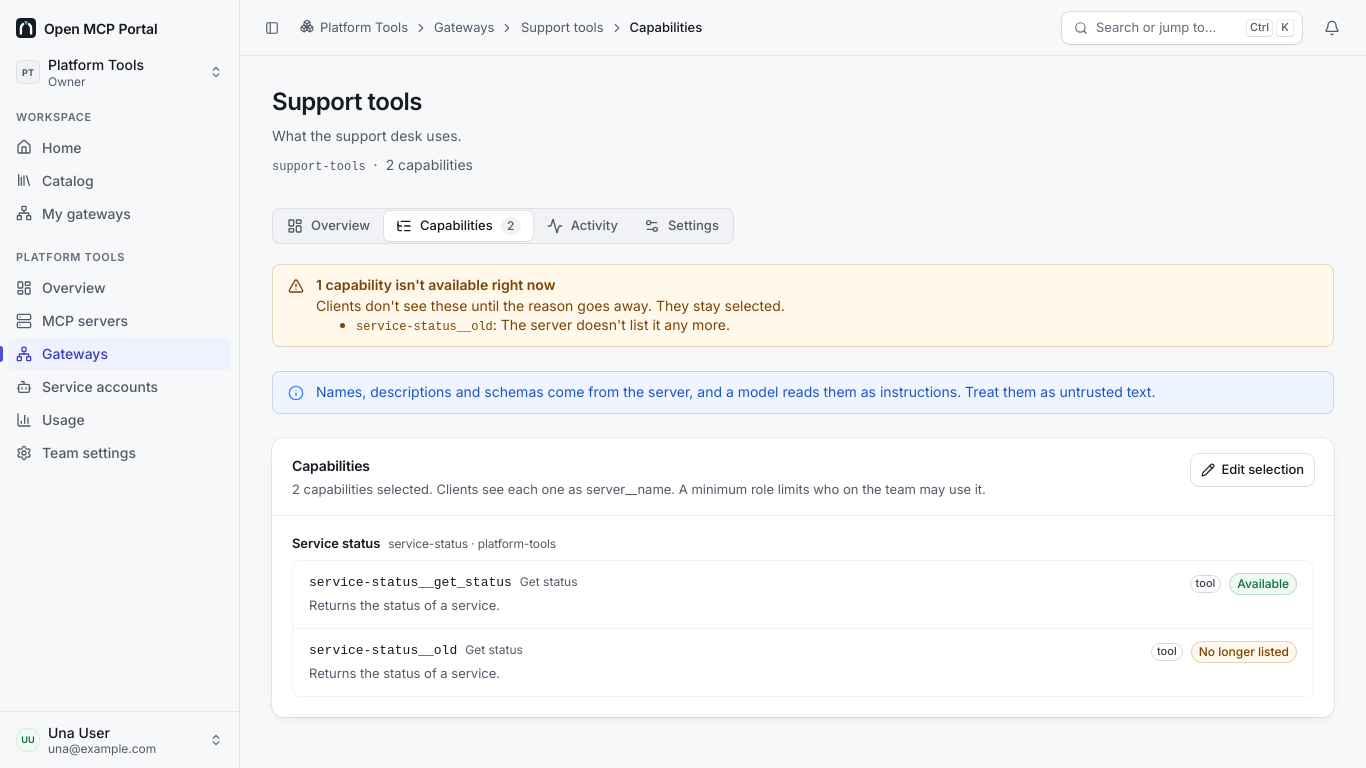
Test: Gateway › Capabilities › lists selected capabilities that can't be selected now, with Remove
Click the button "Edit selection".
click(1253, 470)  # box [1191, 454, 1314, 486]
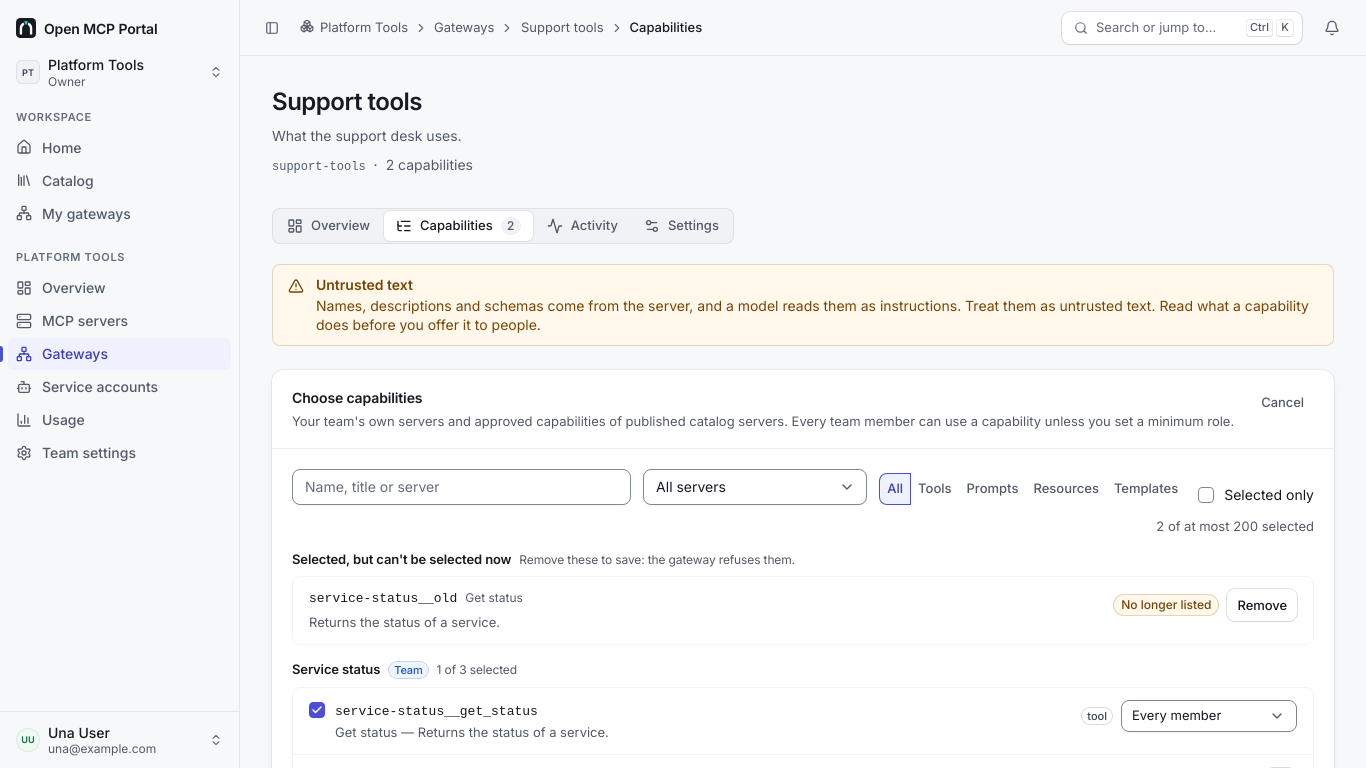
Now the heading "Selected, but can't be selected now" is shown, box [292, 552, 511, 568]
Click the button with aria-label "Remove service-status__old".
click(1262, 605)  # box [1228, 589, 1297, 621]
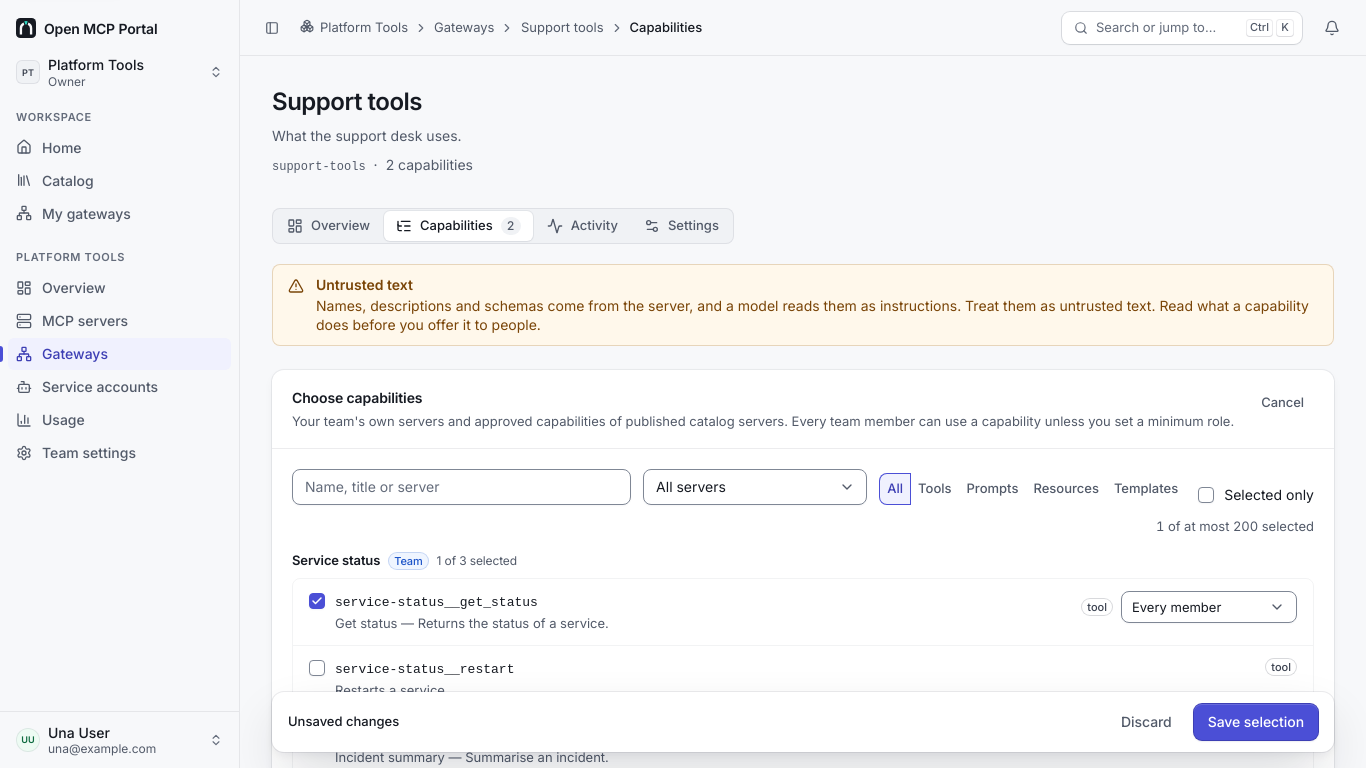
Now the heading "Selected, but can't be selected now" is gone
Now the text "1 of at most 200 selected" is shown, box [1156, 517, 1314, 536]
